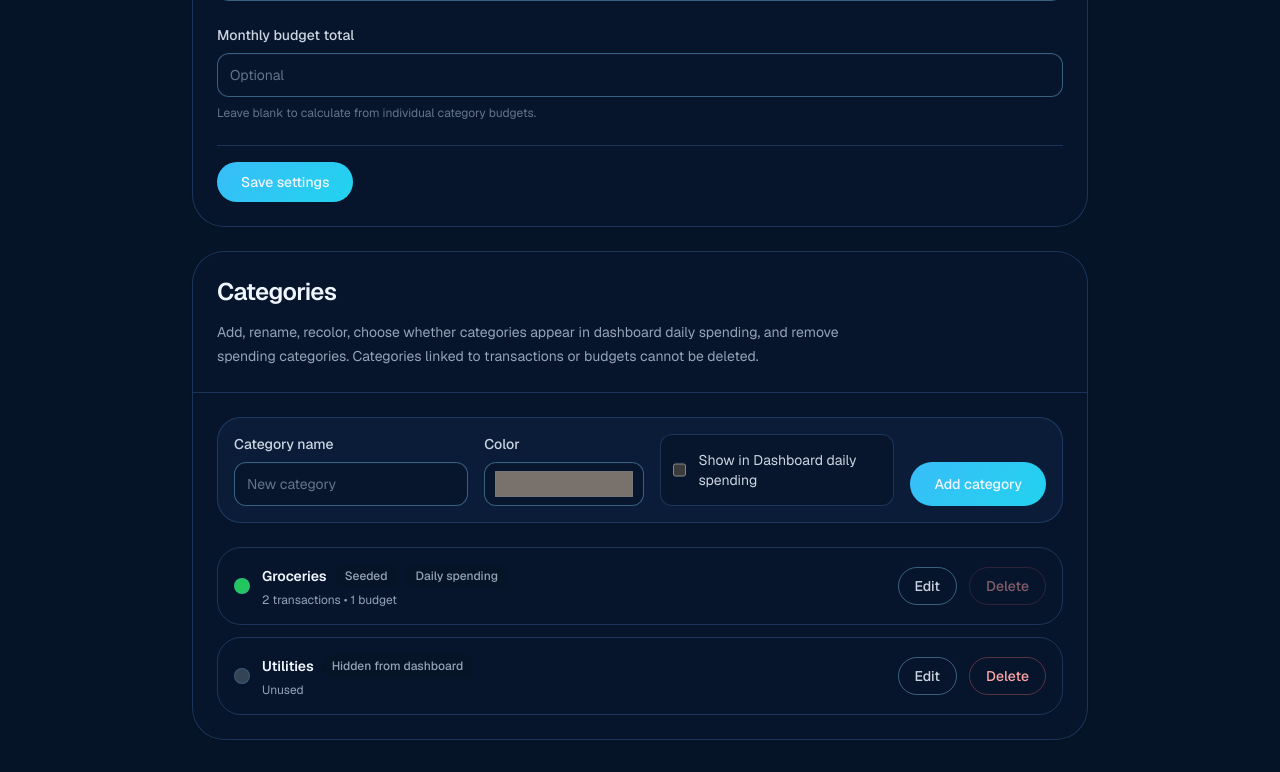
Test: [Component] settings page › should show a category error when creating a category fails
The image size is (1280, 772).
(page scrolled)
Type "Utilities" into the field with placeholder "New category".
click(351, 484); type("Utilities")  # box [234,462,468,506]
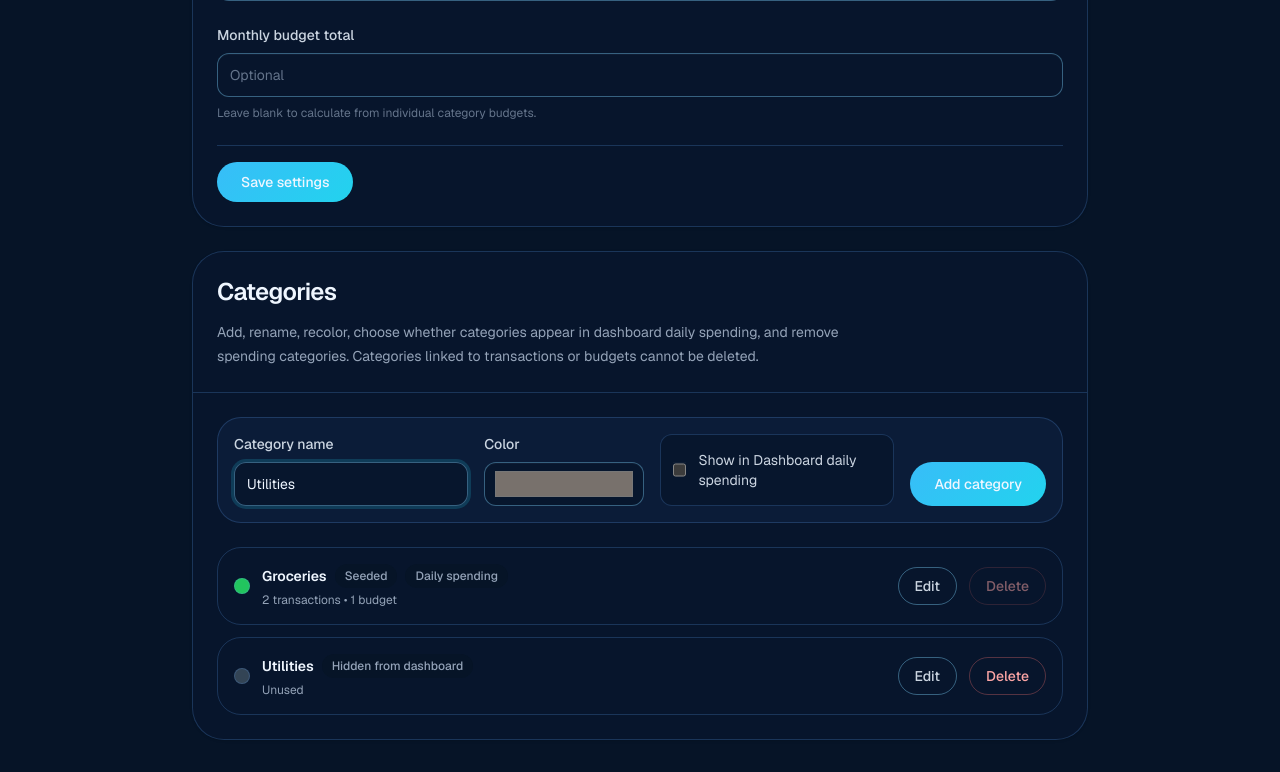
Click the button "Add category".
click(978, 484)  # box [910,462,1046,506]
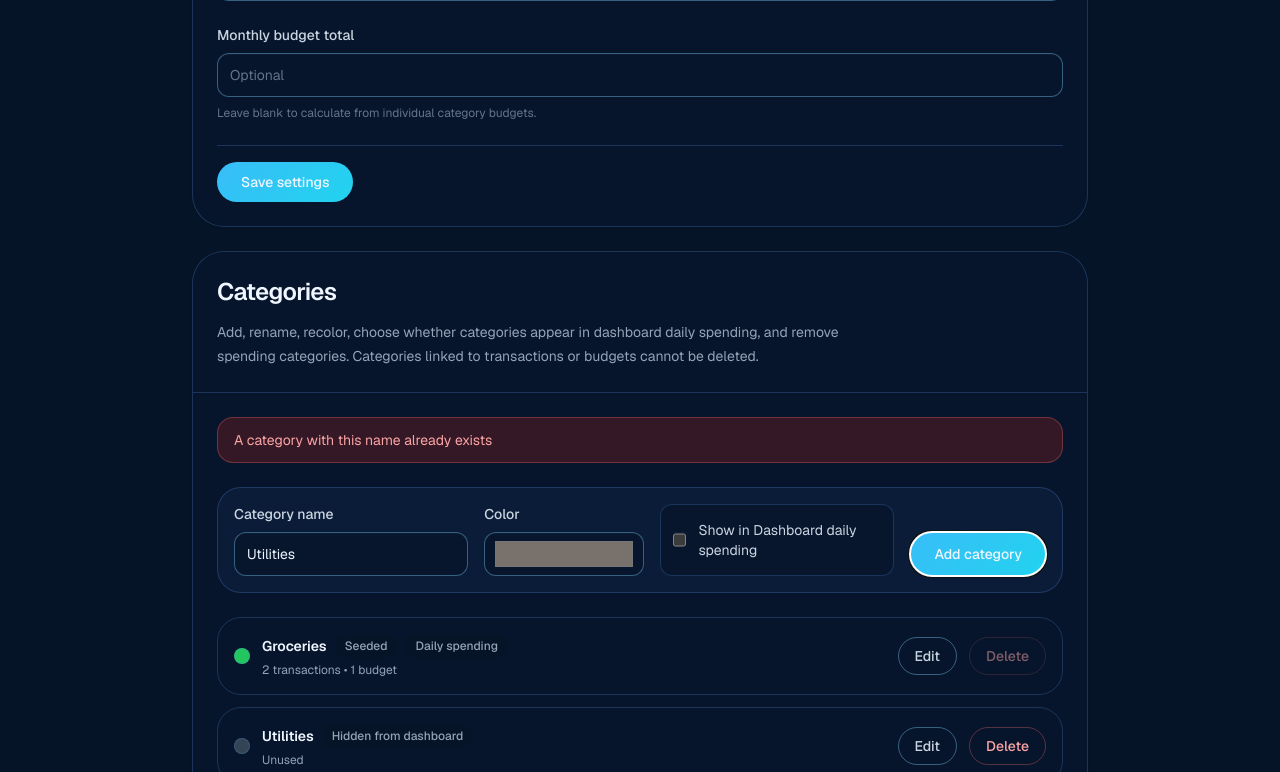
Check: the text "A category with this name already exists" is shown, box [217,417,1063,463]
